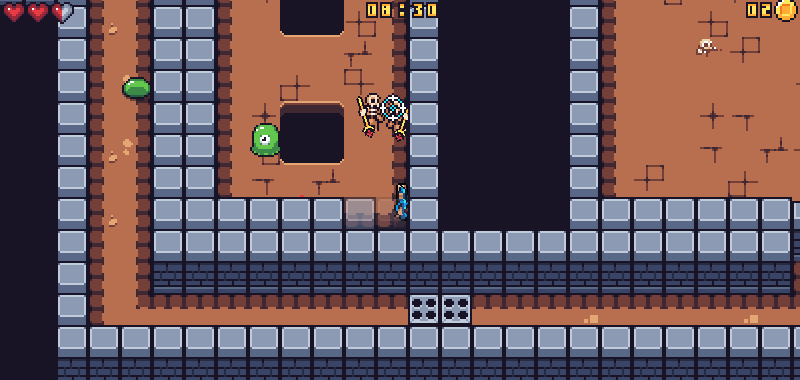enemy_skeleton: (354, 89, 384, 141), (392, 105, 409, 144)
enemy_slug: (118, 75, 154, 101)
enemy_slug_big: (249, 121, 285, 156)
trap_off: (409, 294, 472, 325)
